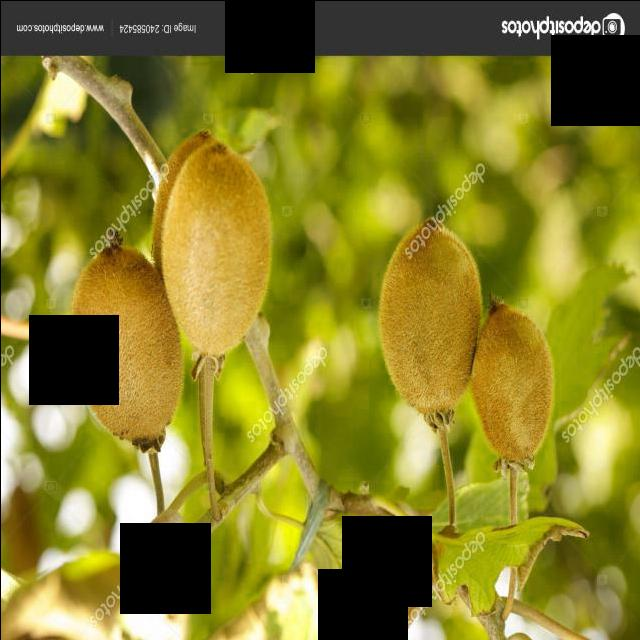kiwi: (166, 142, 277, 375), (70, 248, 180, 457), (471, 303, 555, 470), (405, 213, 457, 439)
